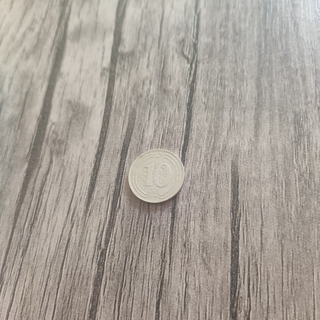10KURUS: (126, 146, 185, 205)
